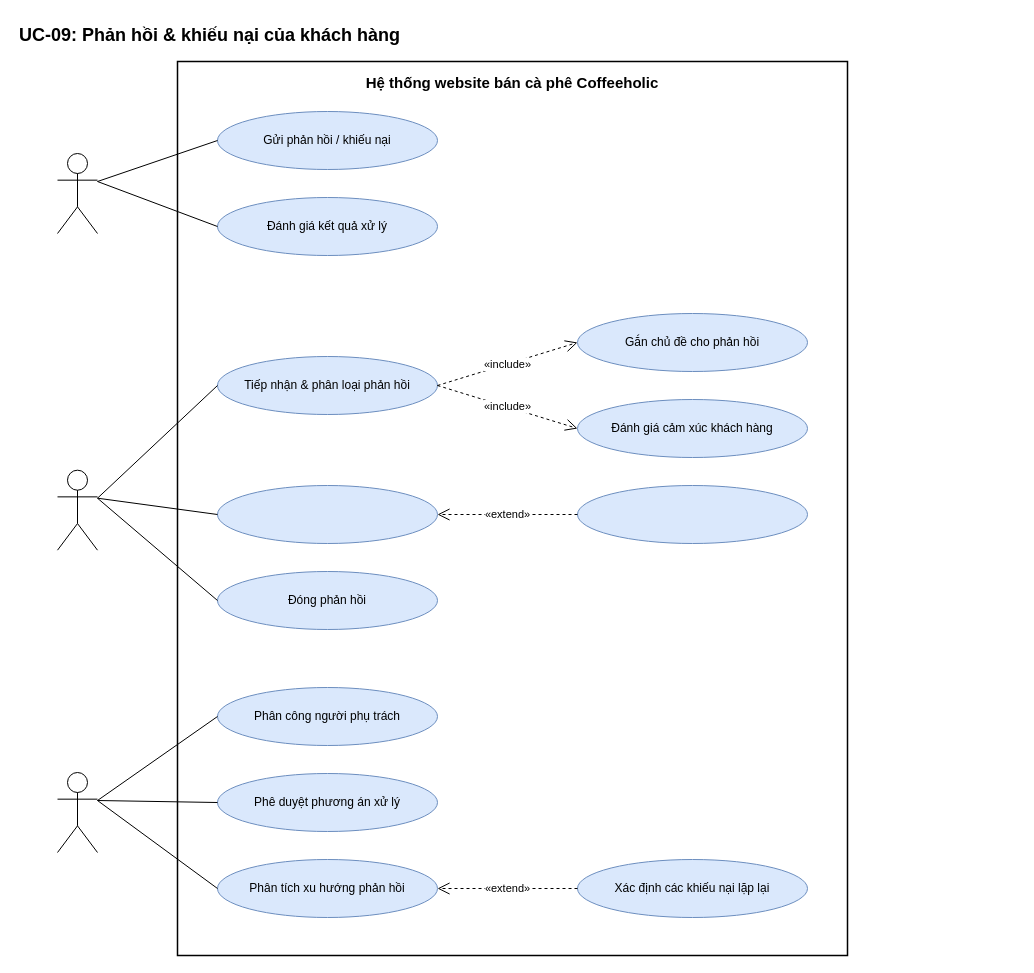
This 1034x973 diagram has some shape labels left out. The box of each missing label's shape, as (x1, y1, x2, y2) in pixels:
Chuyển cấp xử lý vấn đề: (576, 484, 808, 544)
Khách hàng: (56, 152, 98, 234)
Nhân viên: (56, 469, 98, 550)
Phản hồi khách hàng: (216, 484, 438, 544)
Quản lý: (56, 772, 98, 852)
